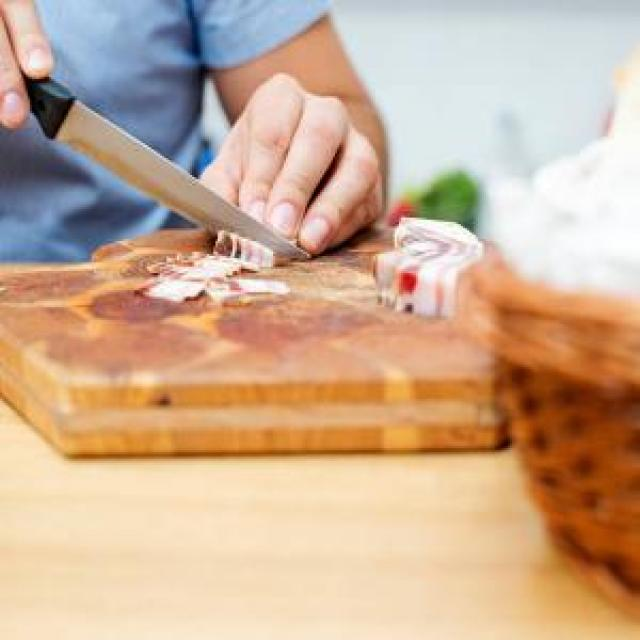knife: (0, 60, 318, 260)
